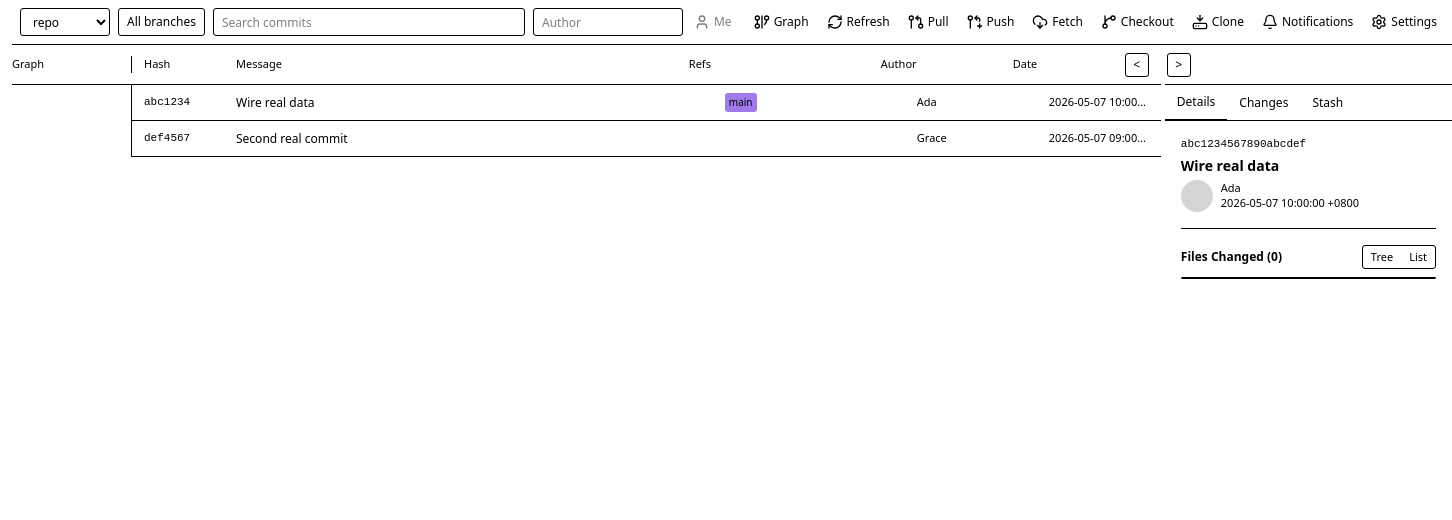
Test: App › keeps stale working tree action responses from replacing selected repository changes
Click the tab "Changes" at (1264, 102), box [1227,85,1300,120]
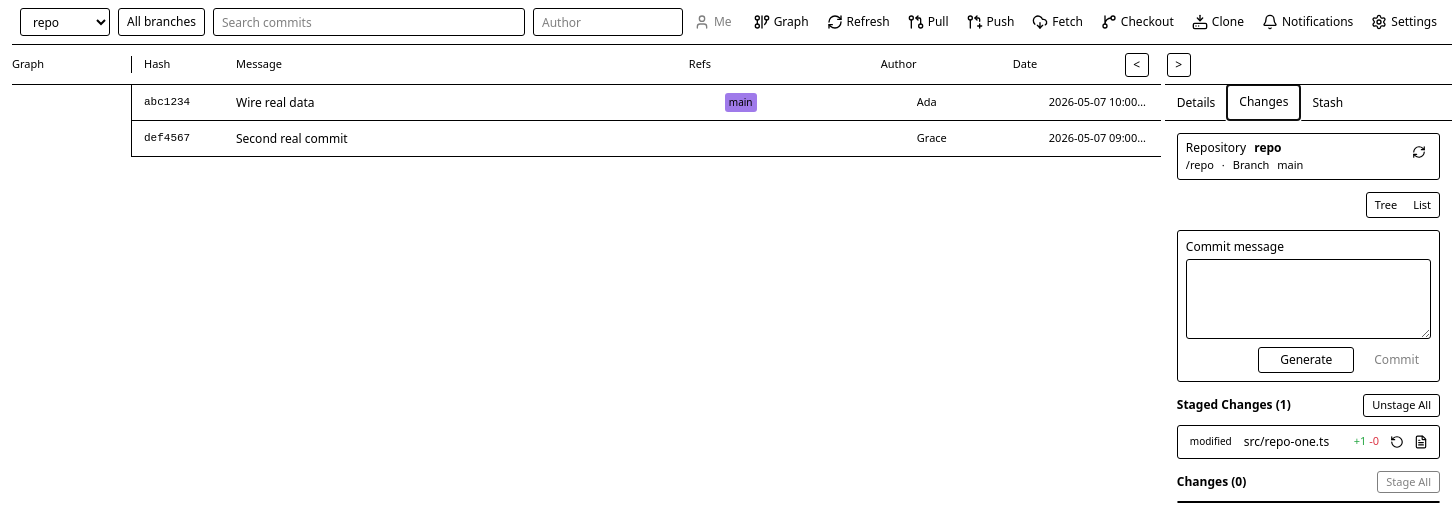
Expected: the button "src/repo-one.ts" is shown, [1244,434,1346,450]
Select "repo-two" in the dropdown named "Repository" at (65, 22), box [20,8,110,36]
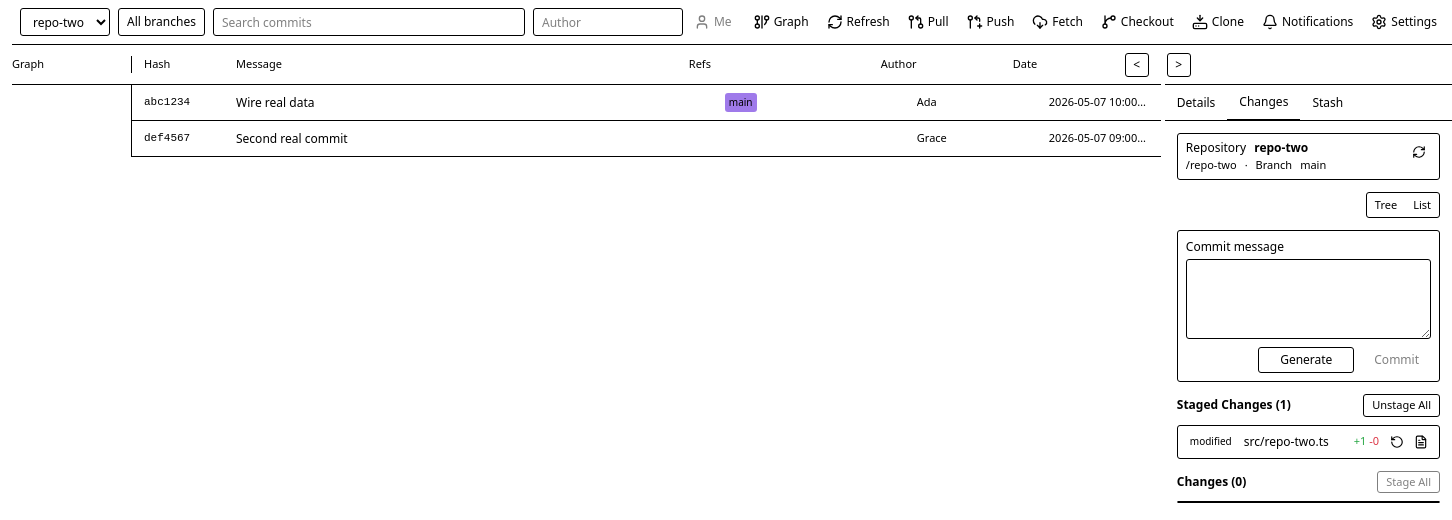
Expected: the button "src/repo-two.ts" is shown, [1244,434,1346,450]
